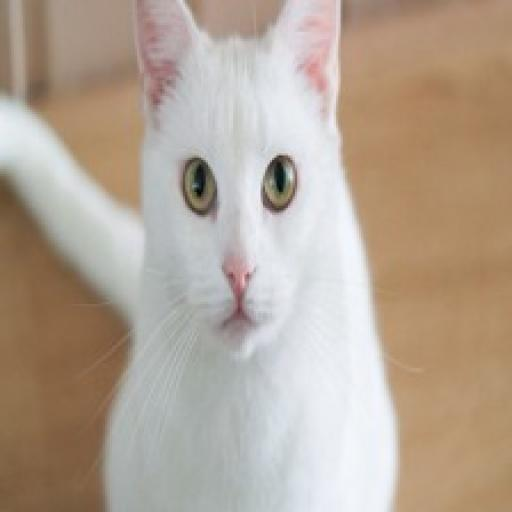cat: (0, 2, 395, 511)
